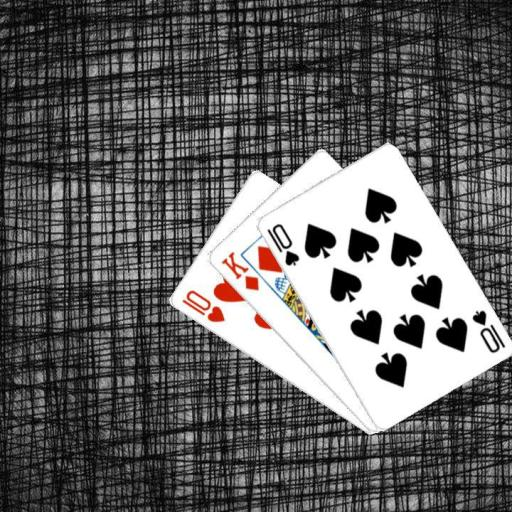10H: (179, 287, 226, 324)
10S: (468, 306, 506, 355), (263, 220, 301, 267)
KD: (218, 248, 260, 293)
